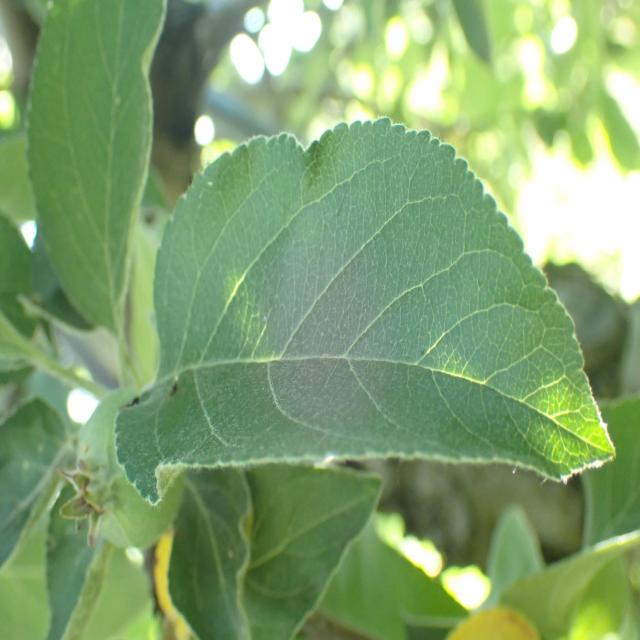healthy: (113, 116, 616, 508), (23, 0, 166, 335), (244, 462, 384, 639), (166, 466, 254, 639)
